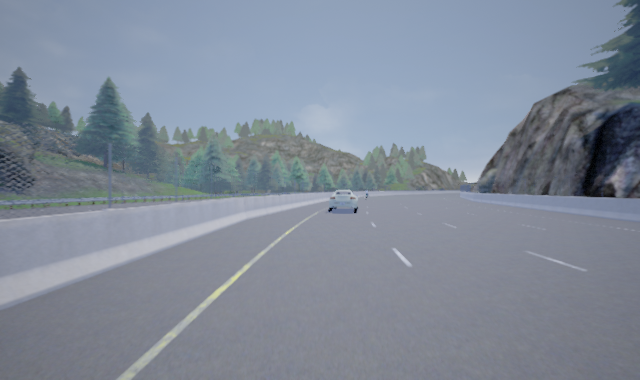vehicle: (327, 189, 358, 213)
